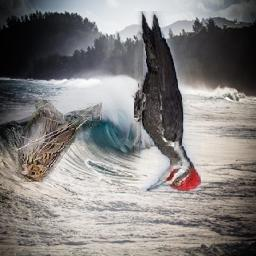Sparrow: (16, 100, 103, 182)
Woodpecker: (135, 11, 202, 191)
